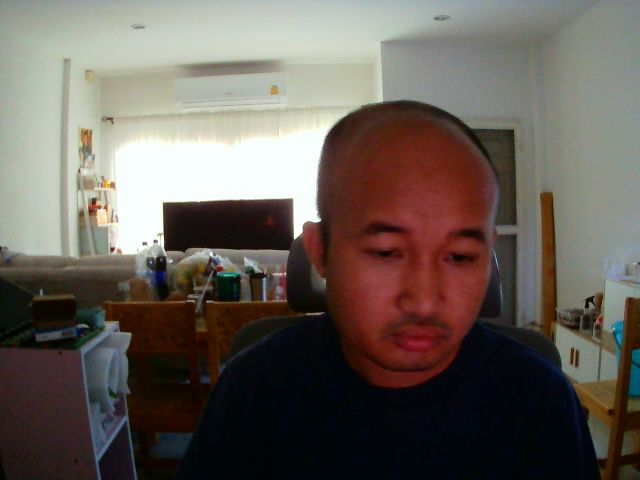face: (317, 102, 500, 375)
